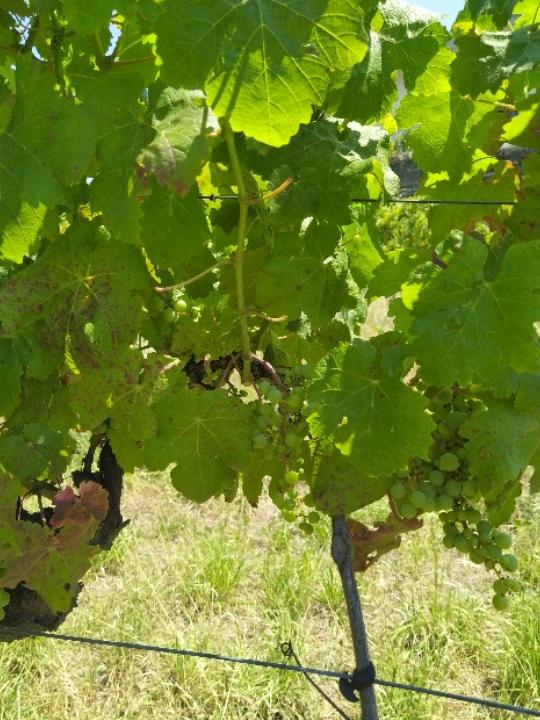grape: (388, 377, 525, 612)
